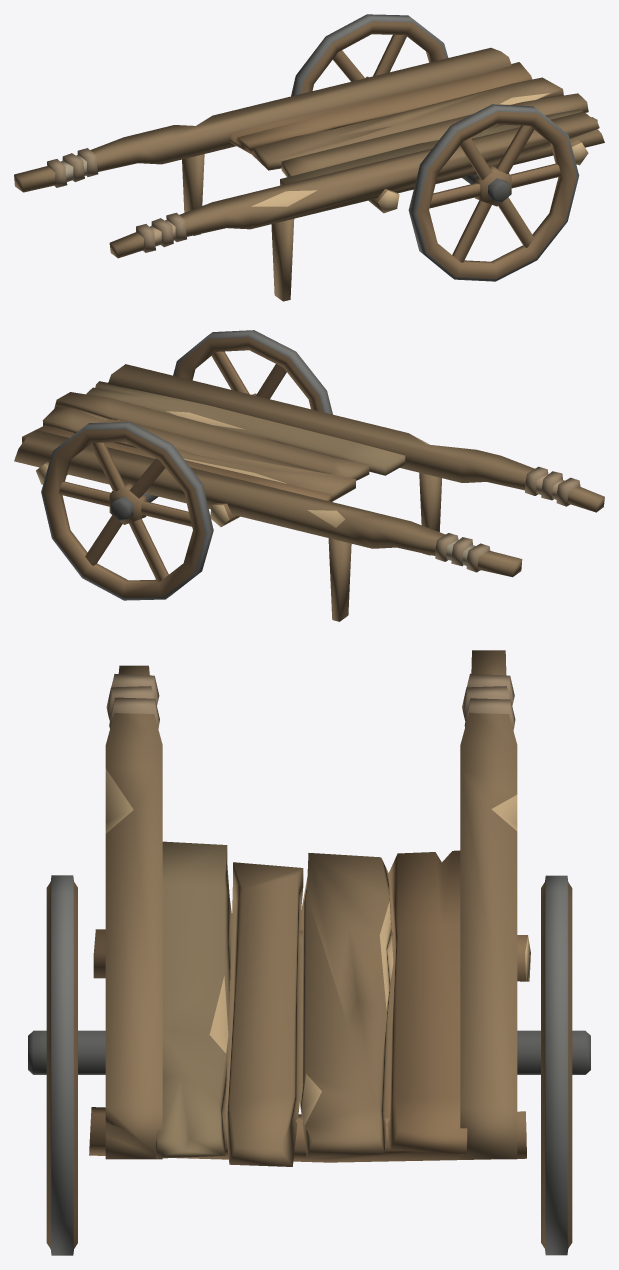
Rendered from rpgpp_ag_wagon_01b.fbx.
3 renders of one model, top to bottom at view 1: azimuth 30°, elevation 25°; view 2: azimuth 150°, elevation 25°; view 3: azimuth 270°, elevation 25°, orthographic. The views are drawn at different scales.
Visible parts, largest first — view 1: rpgpp_ag_wagon_01b; view 2: rpgpp_ag_wagon_01b; view 3: rpgpp_ag_wagon_01b.
Part boxes in pixels (x1,y1,x2,y2): rpgpp_ag_wagon_01b: (14,14,604,301); rpgpp_ag_wagon_01b: (14,330,604,621); rpgpp_ag_wagon_01b: (28,650,590,1255).
Size of the model in its own units: 4.25 by 1.38 by 2.04.
